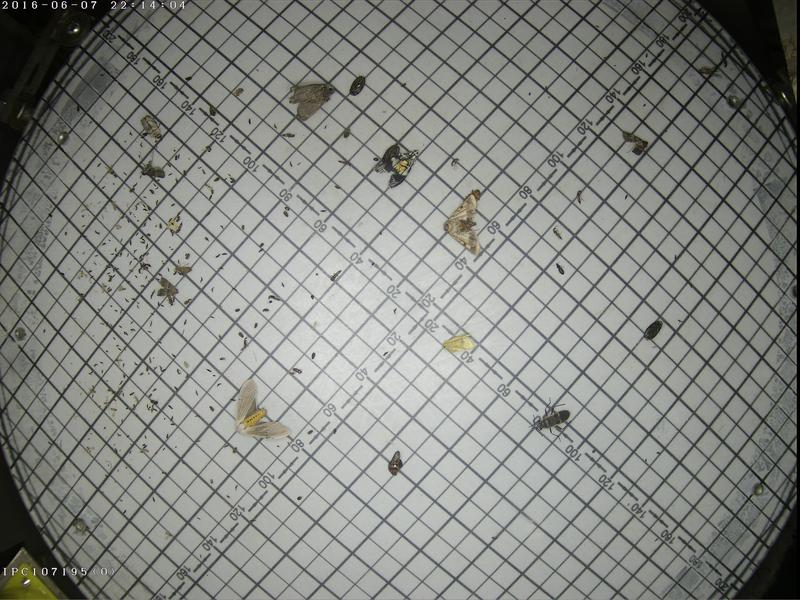Bollworm: (443, 194, 482, 255)
